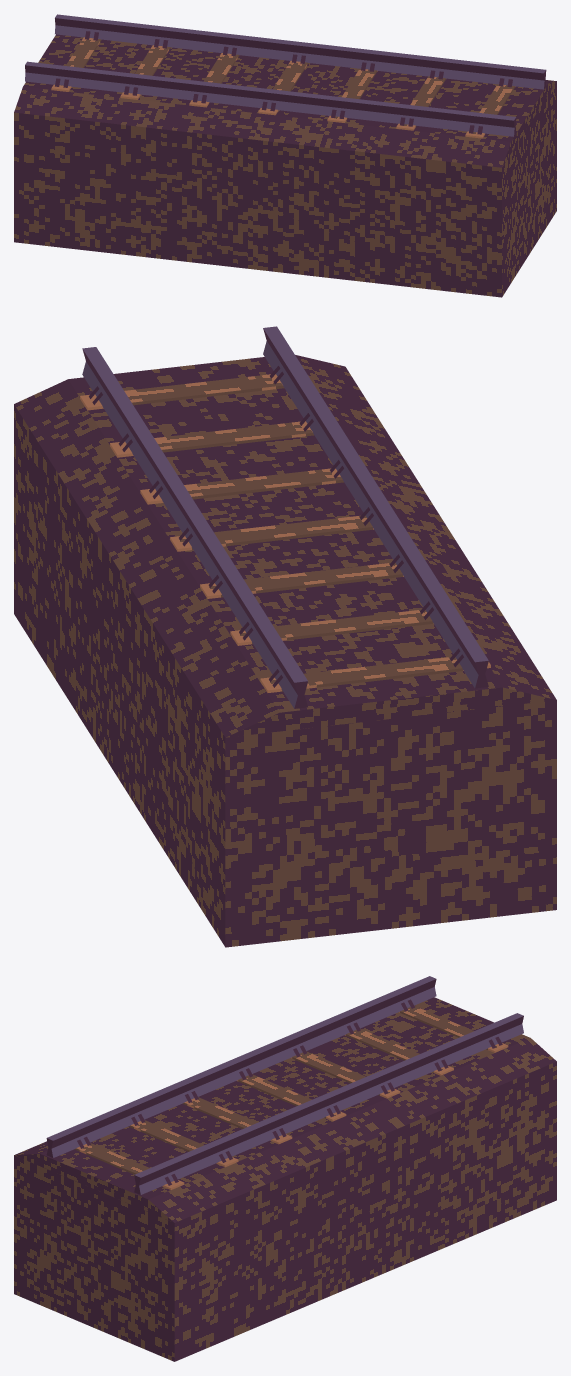
The model's file is track_diagonal.glb.
The picture shows the model from 3 angles, top to bottom: view 1: azimuth 30°, elevation 25°; view 2: azimuth 150°, elevation 25°; view 3: azimuth 270°, elevation 25°; orthographic projection. The views are drawn at different scales.
Visible parts, largest first — view 1: track_diagonal; view 2: track_diagonal; view 3: track_diagonal.
Boxes of the visible parts, <box> form: track_diagonal: <box>14,14,556,297</box>; track_diagonal: <box>14,326,556,947</box>; track_diagonal: <box>14,976,556,1361</box>.
Bounding box in the file's own units: 7.1 × 2.46 × 7.1.
Materials: 1 (1 with a texture image).
